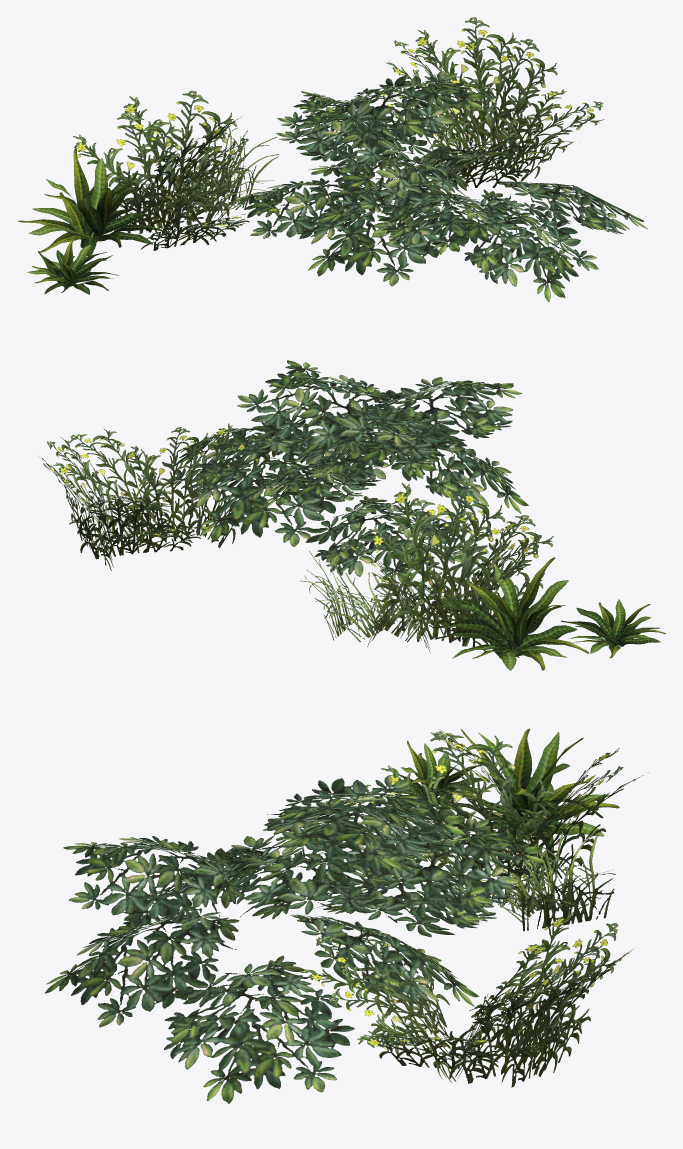
File: 4002_Item_hua_3.FBX
3 views of the same model, one above another, from view 1: azimuth 30°, elevation 25°; view 2: azimuth 150°, elevation 25°; view 3: azimuth 270°, elevation 25° (orthographic). The views are drawn at different scales.
Visible parts, largest first — view 1: 4002_Item_hua_3; view 2: 4002_Item_hua_3; view 3: 4002_Item_hua_3.
Boxes of the visible parts, x1,y1,x2,y2 form: 4002_Item_hua_3: (18,17,647,301); 4002_Item_hua_3: (40,360,665,670); 4002_Item_hua_3: (45,728,643,1103).
Bounding box in the file's own units: 52233 × 13742 × 40678.
